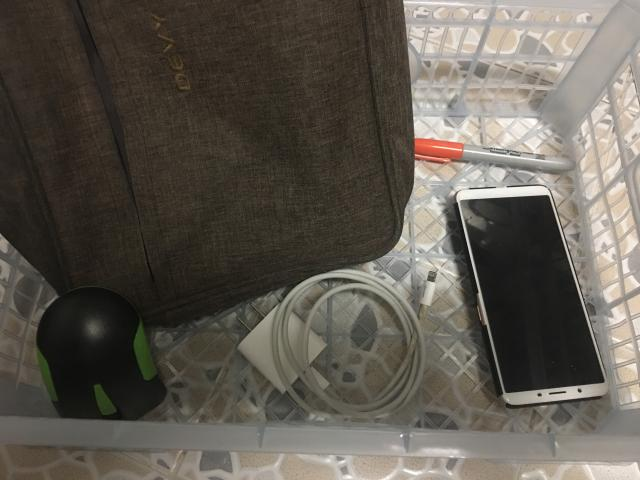Mobile phone: (455, 185, 608, 408)
Mouse: (36, 288, 166, 420)
Pen: (415, 139, 575, 174)
wire: (236, 269, 436, 419)
